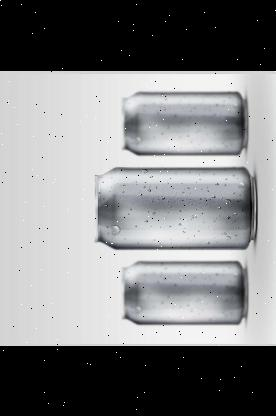Can: (95, 166, 257, 249), (123, 260, 247, 324), (123, 91, 247, 154)
